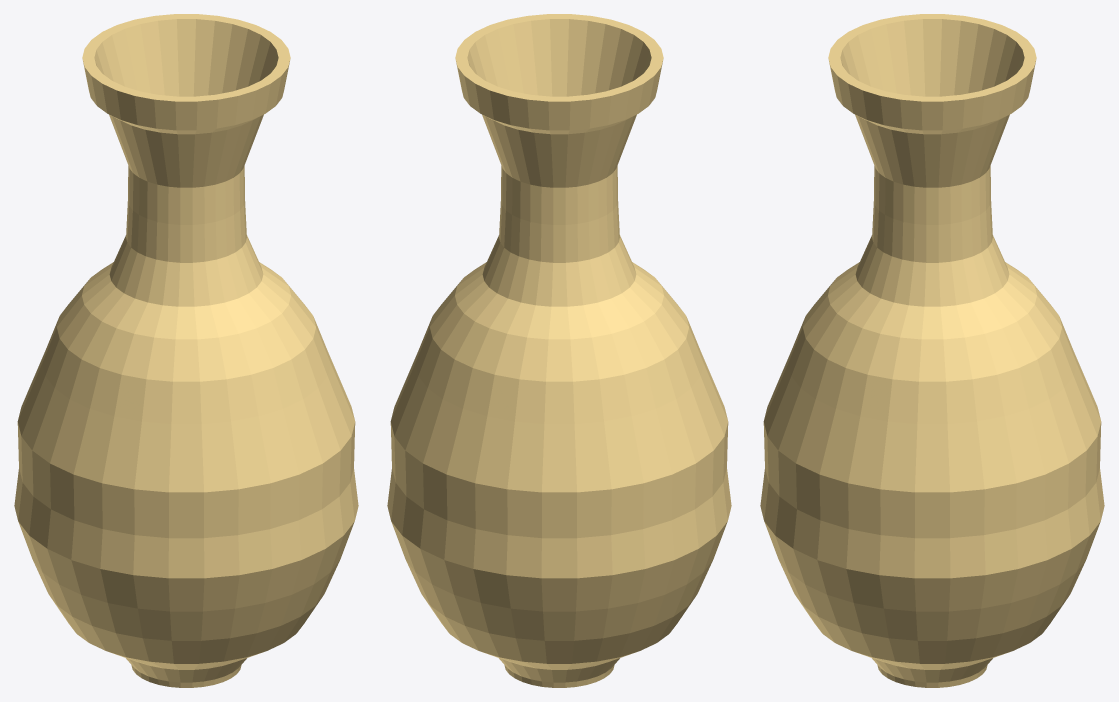
Rendered from ornementb.fbx.
3 renders of one model, left to right at view 1: azimuth 30°, elevation 25°; view 2: azimuth 150°, elevation 25°; view 3: azimuth 270°, elevation 25°, orthographic.
Visible parts, largest first — view 1: Sphere.002; view 2: Sphere.002; view 3: Sphere.002.
Boxes of the visible parts, box(x1,y1,x2,y2) form: Sphere.002: box(14, 14, 358, 687); Sphere.002: box(387, 14, 731, 687); Sphere.002: box(760, 14, 1104, 687).
Bounding box in the file's own units: 149 × 148 × 290.
1 material, 1 textured.
